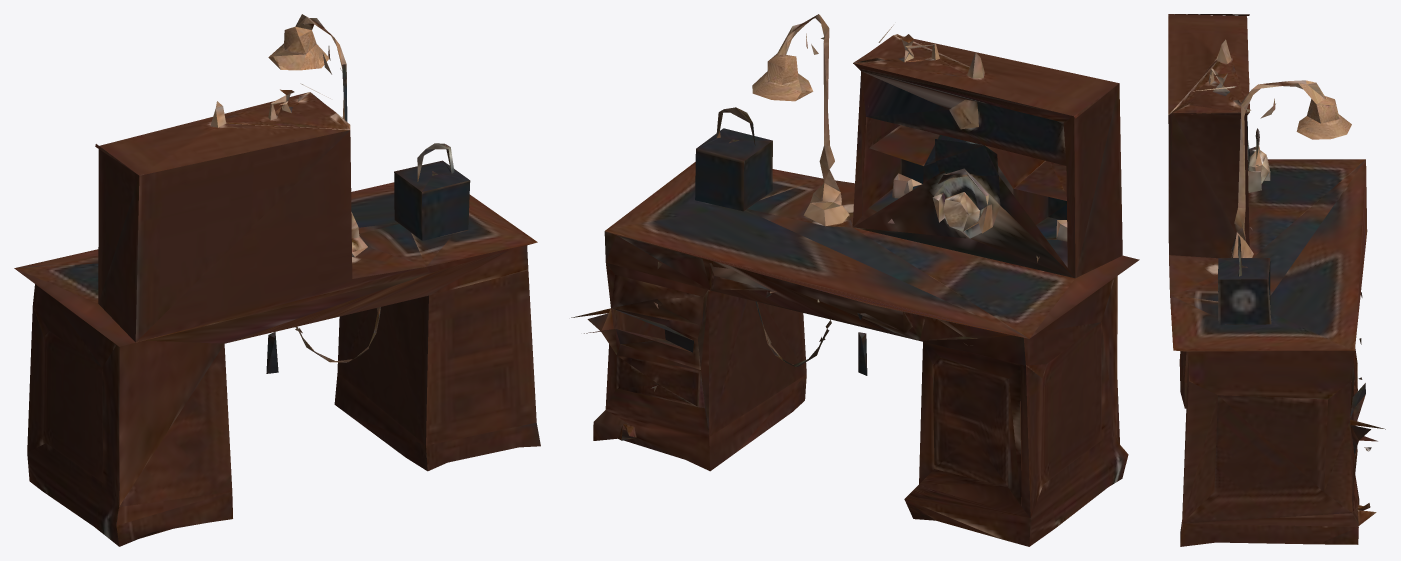
Rendered from mj-marconi-operator-desk.lod1.glb.
3 views of the same model, side by side, from view 1: azimuth 30°, elevation 25°; view 2: azimuth 150°, elevation 25°; view 3: azimuth 270°, elevation 25° (orthographic). The views are drawn at different scales.
Visible parts, largest first — view 1: mj-marconi-operator-desk; view 2: mj-marconi-operator-desk; view 3: mj-marconi-operator-desk.
Boxes of the visible parts, x1=… form: mj-marconi-operator-desk: x1=14, y1=14, x2=540, y2=546; mj-marconi-operator-desk: x1=571, y1=14, x2=1139, y2=546; mj-marconi-operator-desk: x1=1168, y1=14, x2=1385, y2=546.
Size of the model in its own units: 1.59 by 1.47 by 0.7414.
1 material, 1 textured.
